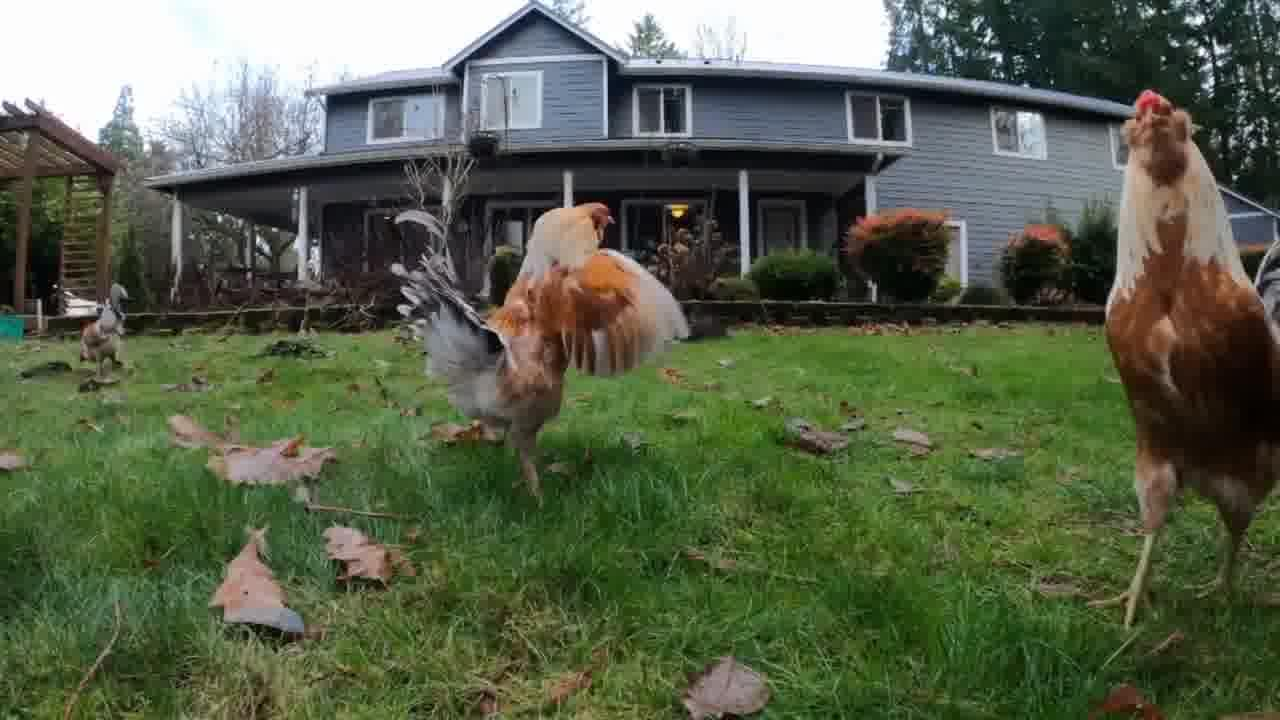Normal: (1054, 86, 1280, 628), (388, 174, 692, 478)
